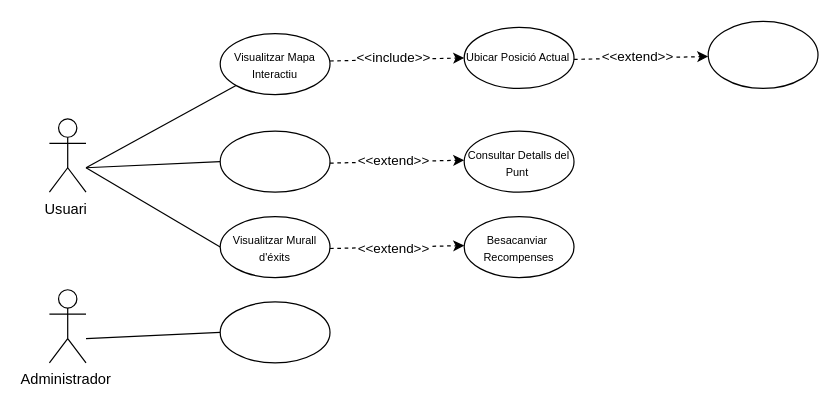
The diagram is 839 pixels wide and 410 high, and some of its shapes have lost their labels. The shapes that lost their labels are listed below. From the top down, each one's box as (x1, y1, x2, y2) in pixels, then its label:
(707, 20, 818, 88): Traçar Punts d'interés
(219, 130, 330, 192): Filtrar Punts d'nterés
(219, 301, 330, 363): Gestionar Punts D'interés
